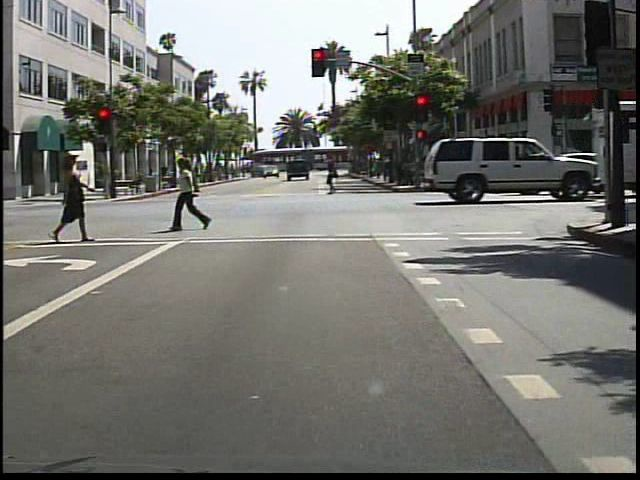person: (53, 147, 97, 247), (170, 155, 210, 233), (323, 150, 348, 197), (158, 159, 172, 186), (3, 150, 4, 248)
